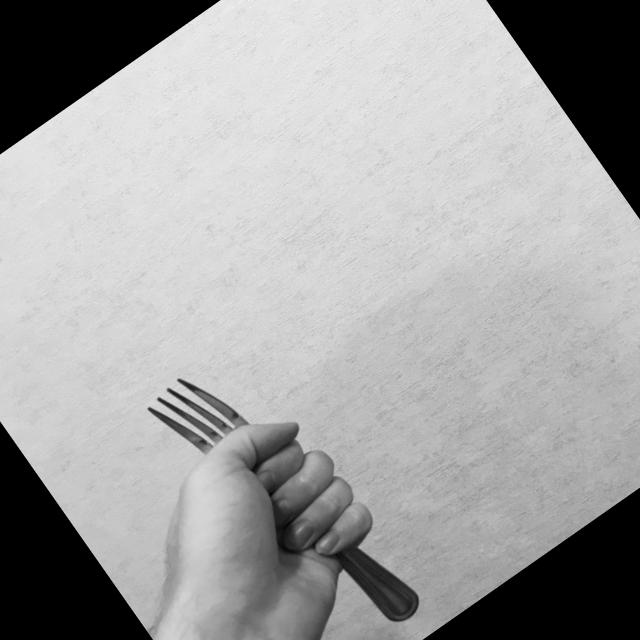fork: (138, 334, 426, 640)
